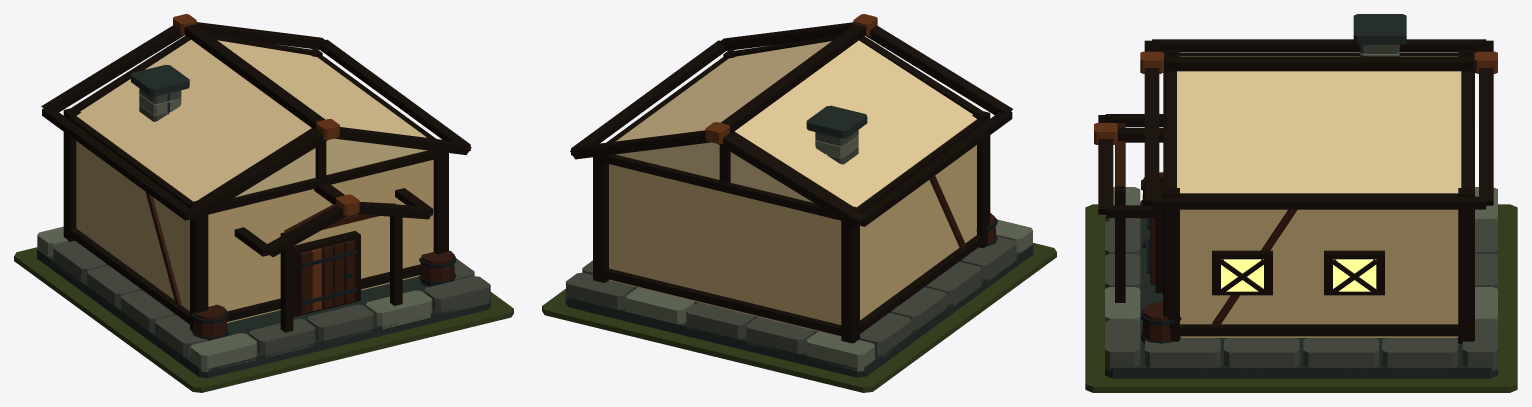
The model's file is longhouse_t6.glb.
3 renders of one model, left to right at view 1: azimuth 30°, elevation 25°; view 2: azimuth 150°, elevation 25°; view 3: azimuth 270°, elevation 25°, orthographic. The views are drawn at different scales.
Parts seen in each view (by area): view 1: MMR | longhouse | T06 Architecture.001, MMR | longhouse | Tier 06 Ground.001; view 2: MMR | longhouse | T06 Architecture.001, MMR | longhouse | Tier 06 Ground.001; view 3: MMR | longhouse | T06 Architecture.001, MMR | longhouse | Tier 06 Ground.001.
Part boxes in pixels (<box>): MMR | longhouse | T06 Architecture.001: <box>37,14,490,377</box>; MMR | longhouse | Tier 06 Ground.001: <box>14,247,513,392</box>; MMR | longhouse | T06 Architecture.001: <box>565,14,1033,377</box>; MMR | longhouse | Tier 06 Ground.001: <box>542,243,1056,392</box>; MMR | longhouse | T06 Architecture.001: <box>1094,14,1497,378</box>; MMR | longhouse | Tier 06 Ground.001: <box>1085,204,1517,392</box>.
Size of the model in its own units: 3.3 by 2.07 by 3.3.
Materials: 2 (1 with a texture image).
